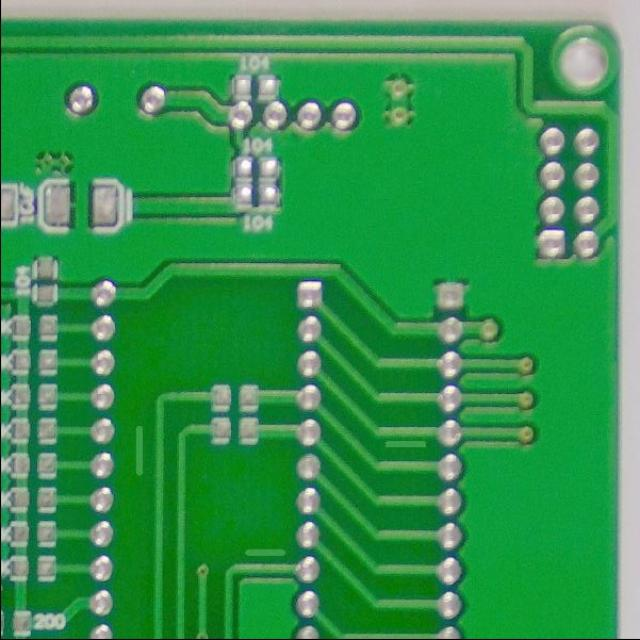spurious_copper: (124, 421, 154, 479), (240, 540, 292, 564), (378, 434, 429, 457)
